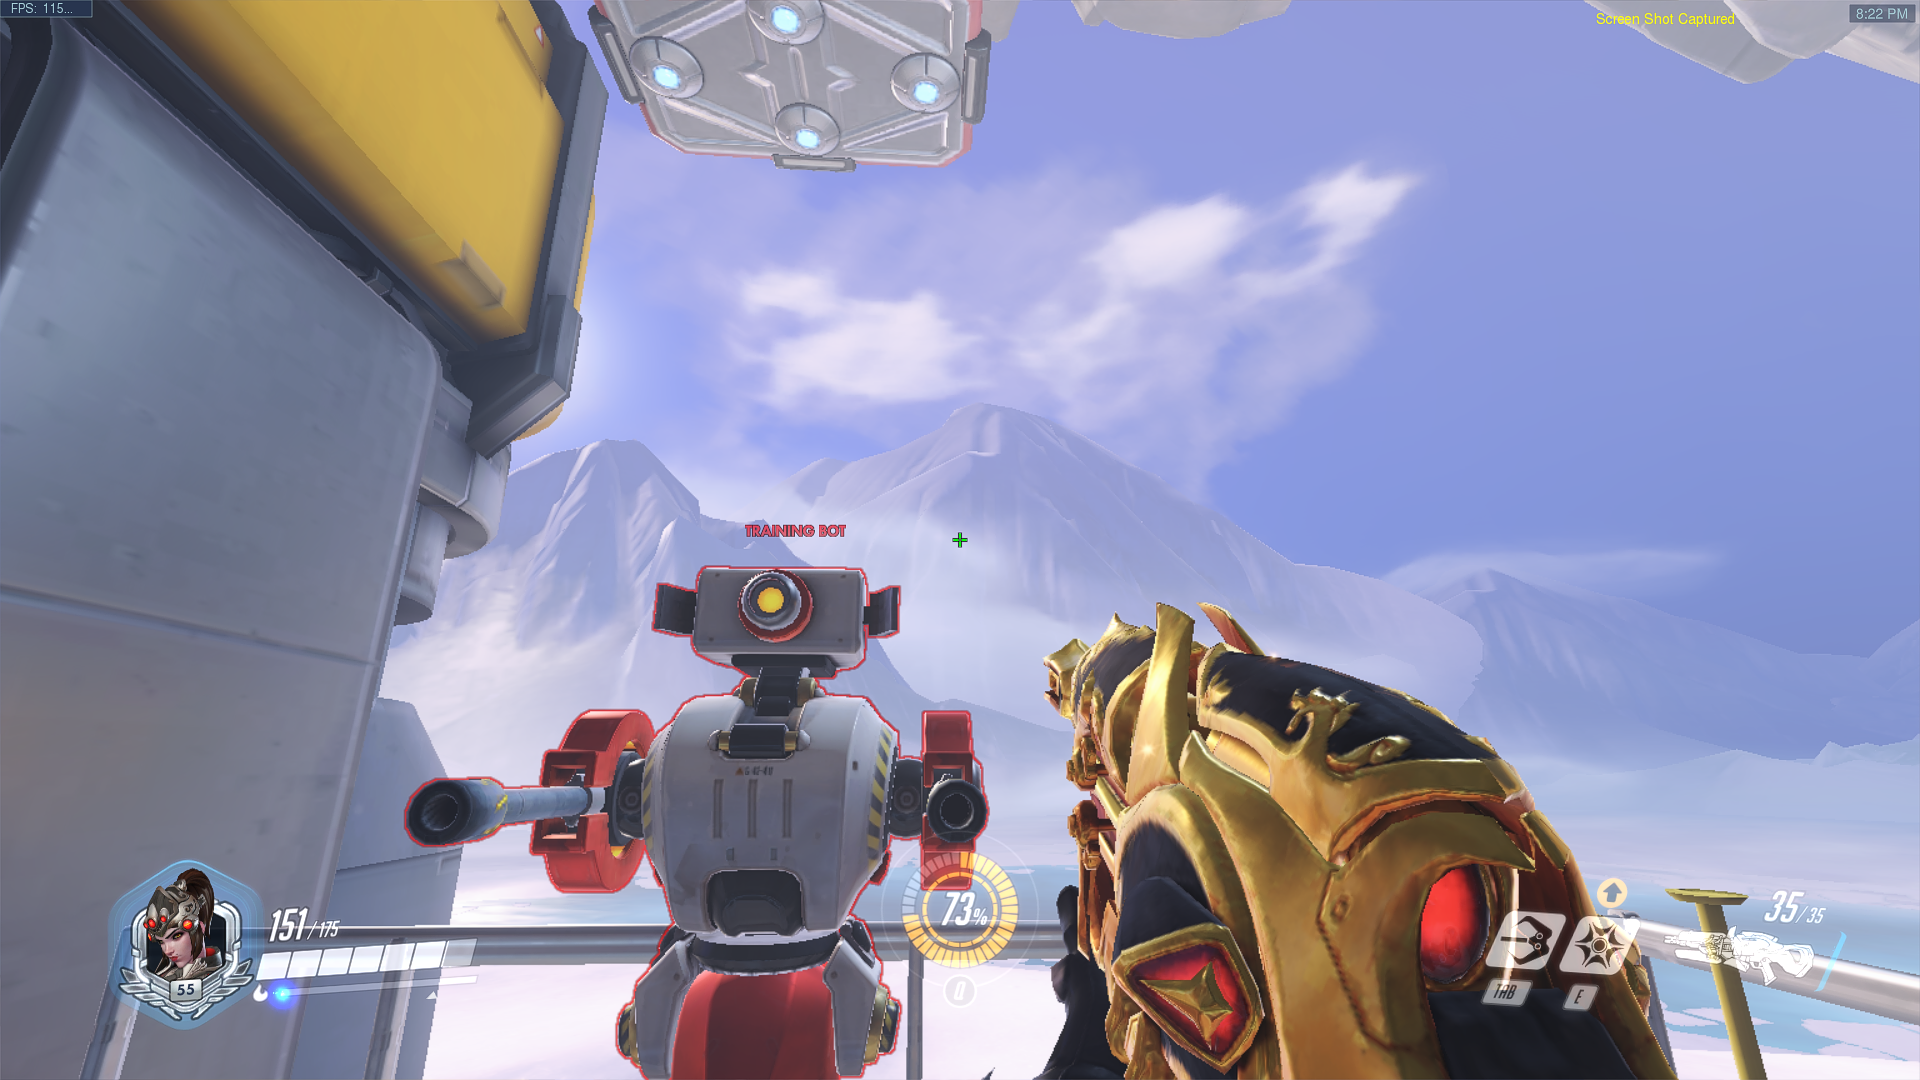head: (693, 565, 871, 670)
